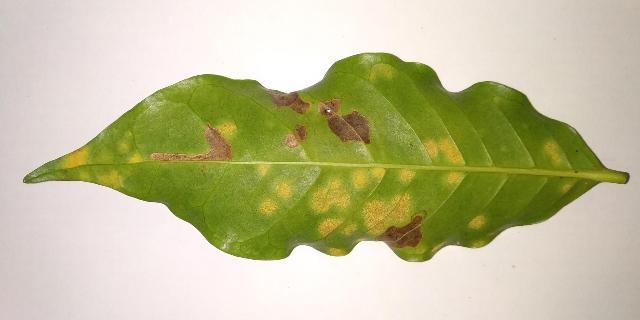cercospora: (354, 192, 426, 256), (149, 122, 235, 163), (318, 98, 371, 145), (311, 178, 350, 212), (268, 91, 311, 115), (424, 139, 461, 163), (352, 167, 386, 189), (318, 218, 357, 237), (63, 146, 88, 168), (285, 124, 307, 147), (543, 142, 563, 165), (99, 171, 121, 189), (273, 181, 294, 199), (399, 166, 415, 182), (261, 199, 277, 214), (468, 215, 485, 229), (446, 170, 462, 184), (325, 248, 348, 256), (128, 152, 143, 164), (561, 180, 575, 192), (431, 242, 443, 255), (257, 164, 270, 176), (120, 141, 128, 151)
